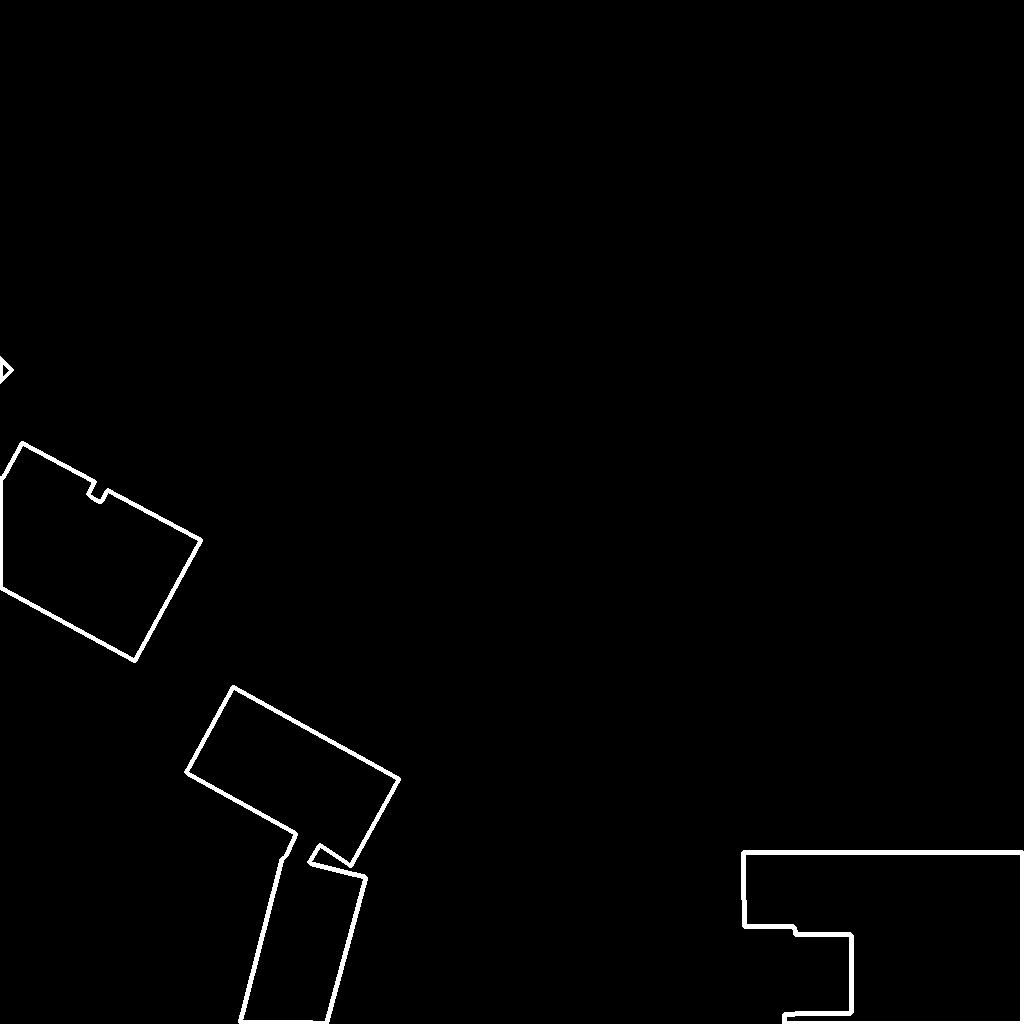building: (186, 687, 400, 1024), (743, 852, 1024, 1024), (0, 443, 202, 662), (0, 358, 13, 383)
